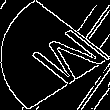M_SE: (7, 21, 103, 89)
